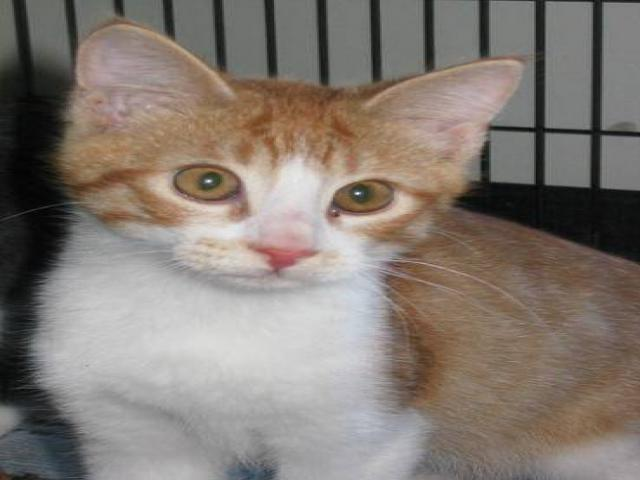cat: (19, 22, 640, 478)
